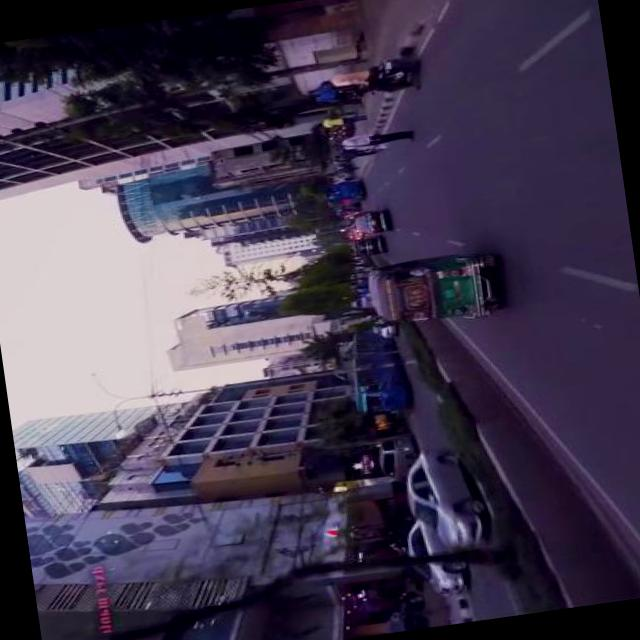bus: (345, 346, 407, 414), (349, 327, 390, 367), (318, 178, 362, 208)
car: (399, 440, 486, 553), (400, 512, 468, 599), (351, 206, 384, 234)
motorcycle: (362, 247, 500, 332), (350, 51, 422, 95)
truck: (375, 433, 417, 482)
